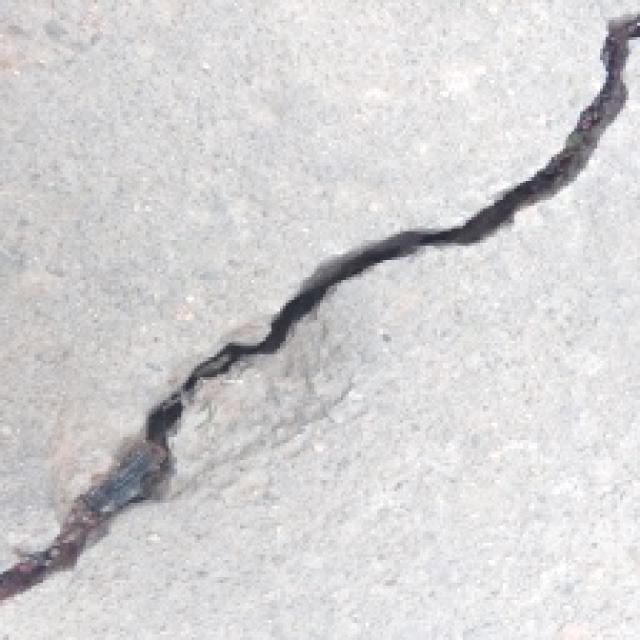SurfaceCrack: (8, 22, 640, 624)
